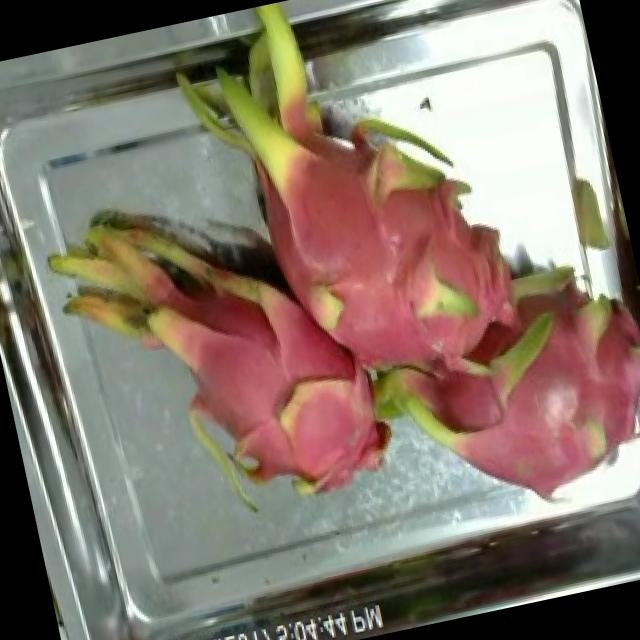Fruit: (247, 340, 421, 520)
